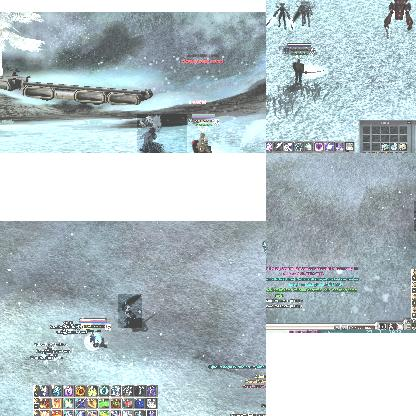caliana: (137, 113, 187, 153), (118, 294, 142, 328), (266, 2, 292, 28), (293, 0, 306, 26), (303, 0, 315, 26)
